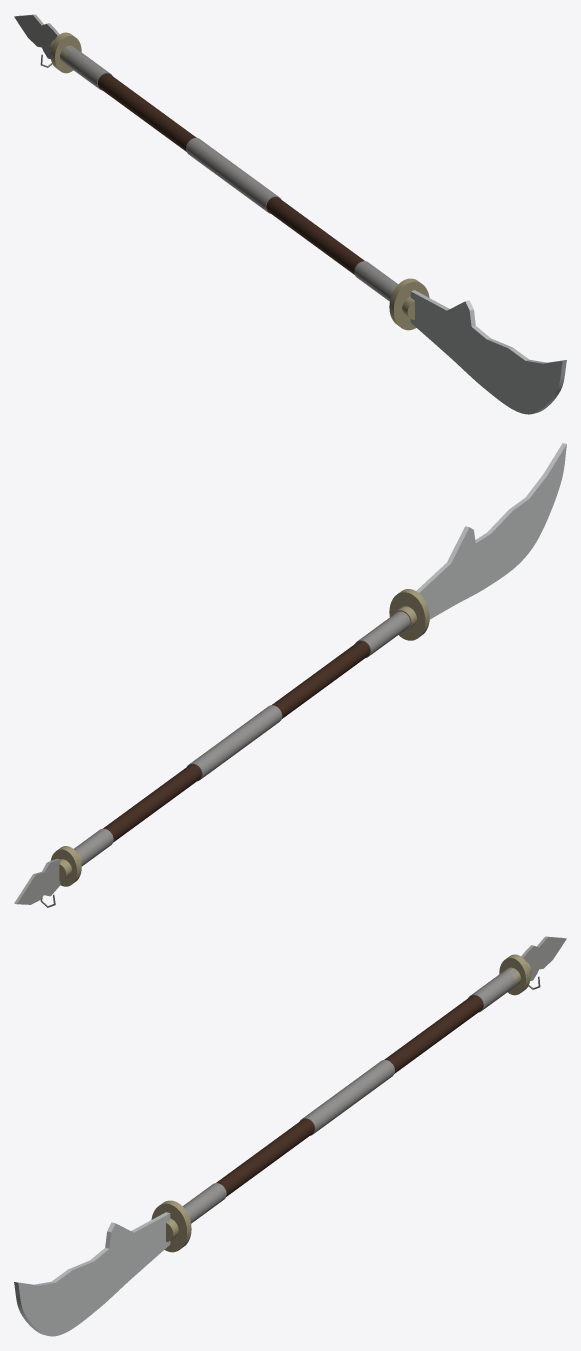
3 renders of one model, top to bottom at view 1: azimuth 30°, elevation 25°; view 2: azimuth 150°, elevation 25°; view 3: azimuth 330°, elevation 25°, orthographic.
Visible parts, largest first — view 1: blade, wood, sleeve.001, guard, point, sleeve.002, sleeve, guard.001; view 2: blade, wood, sleeve.001, point, guard, sleeve, sleeve.002, guard.001; view 3: blade, wood, sleeve.001, guard, point, sleeve.002, sleeve, guard.001.
Part boxes in pixels (<box>): blade: <box>410,290,566,414</box>; wood: <box>97,73,364,274</box>; sleeve.001: <box>186,138,281,213</box>; guard: <box>389,278,429,330</box>; point: <box>14,14,59,59</box>; sleeve.002: <box>60,45,112,90</box>; sleeve: <box>354,261,398,301</box>; guard.001: <box>50,32,81,73</box>; blade: <box>416,443,566,619</box>; wood: <box>103,641,370,842</box>; sleeve.001: <box>187,705,282,781</box>; point: <box>14,859,60,904</box>; guard: <box>389,589,429,640</box>; sleeve: <box>355,611,410,657</box>; sleeve.002: <box>74,828,113,866</box>; guard.001: <box>50,846,81,886</box>; blade: <box>14,1212,170,1336</box>; wood: <box>216,995,483,1196</box>; sleeve.001: <box>299,1060,394,1135</box>; guard: <box>151,1200,191,1252</box>; point: <box>521,936,566,981</box>; sleeve.002: <box>468,967,520,1012</box>; sleeve: <box>182,1183,226,1223</box>; guard.001: <box>499,954,530,995</box>.
Bounding box in the file's own units: 0.0756 × 0.173 × 2.
